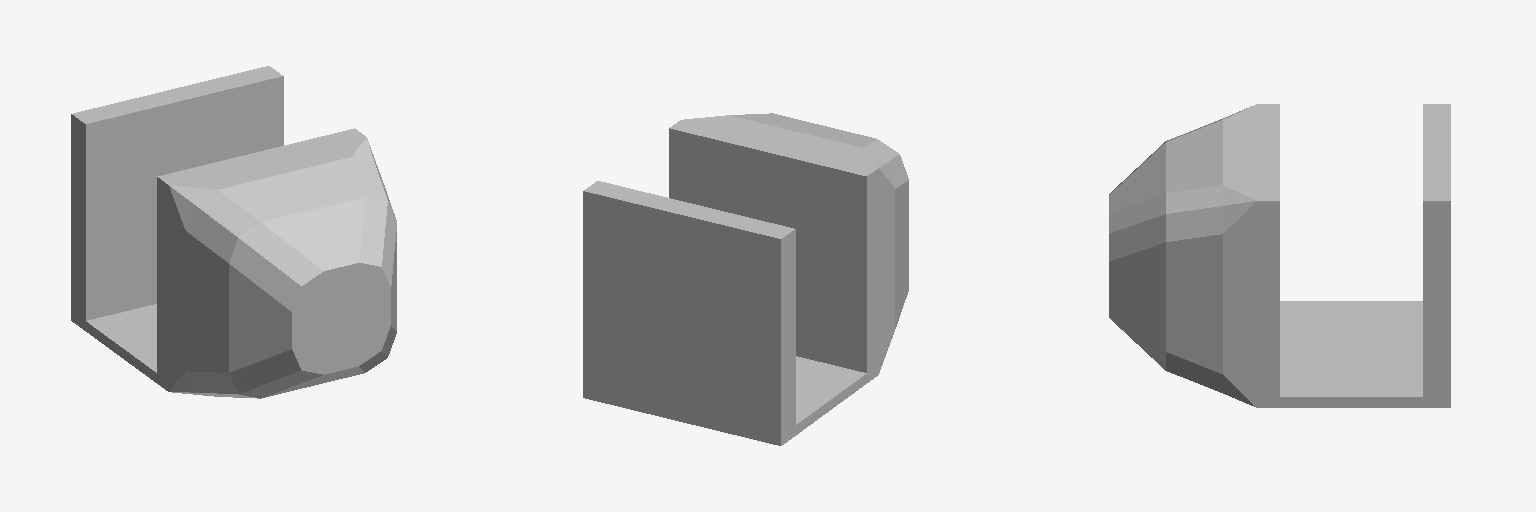
Rendered from grinder.obj.
3 views of the same model, side by side, from view 1: azimuth 30°, elevation 25°; view 2: azimuth 150°, elevation 25°; view 3: azimuth 270°, elevation 25° (orthographic).
Visible parts, largest first — view 1: Cube; view 2: Cube; view 3: Cube.
Part boxes in pixels (left/top/right/bottom): Cube: left=71, top=66, right=396, bottom=398; Cube: left=583, top=113, right=908, bottom=445; Cube: left=1109, top=104, right=1450, bottom=407.
Bounding box in the file's own units: 2 × 2 × 3.